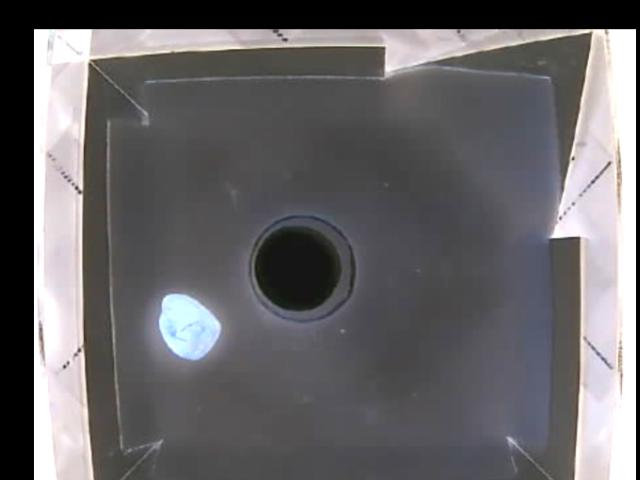Cup: (249, 215, 357, 323)
Pebble: (155, 292, 219, 363)
